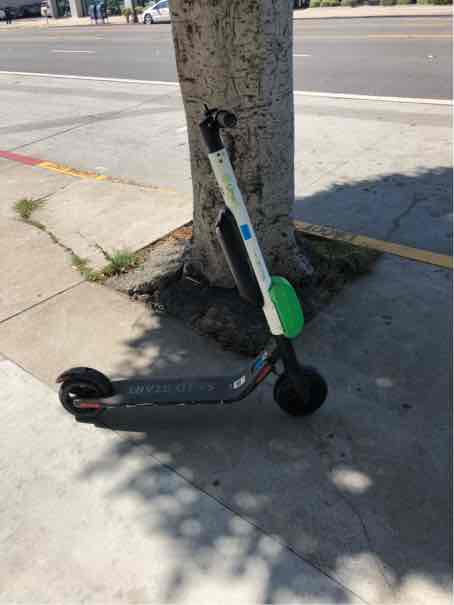scooter: (43, 86, 333, 442)
